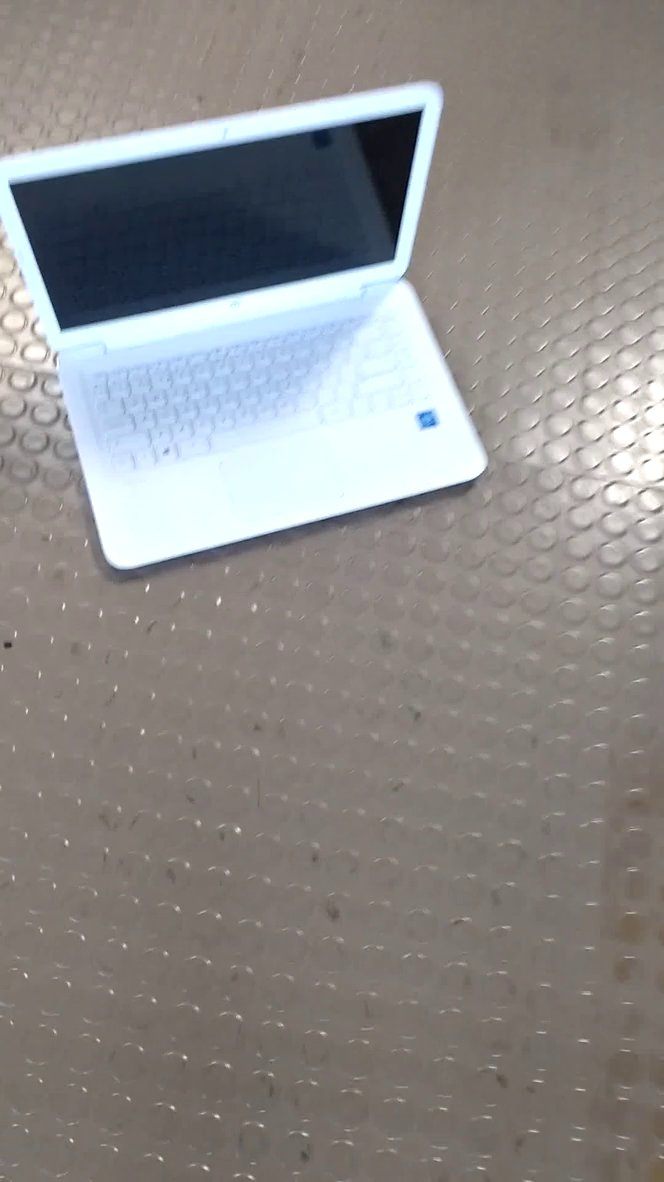laptop: (1, 78, 502, 580)
